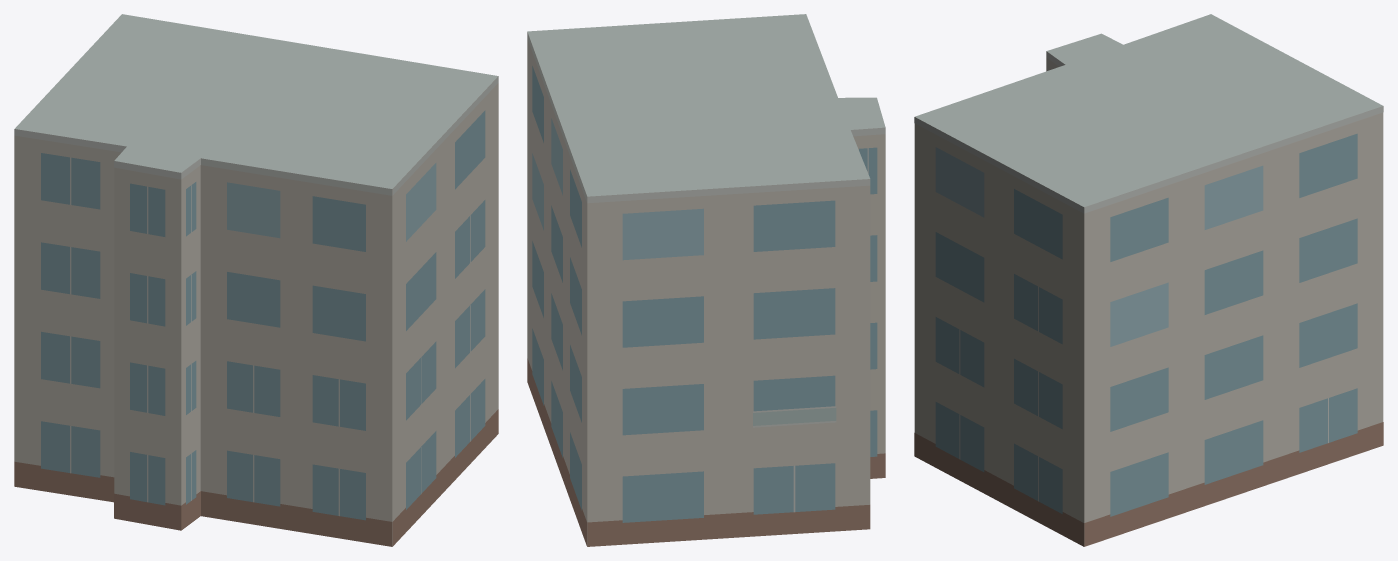
File: survey-upis-32980603.glb
The picture shows the model from 3 angles, left to right: view 1: azimuth 30°, elevation 25°; view 2: azimuth 150°, elevation 25°; view 3: azimuth 270°, elevation 25°; orthographic projection. The views are drawn at different scales.
Visible parts, largest first — view 1: survey-upis-32980603.tmp; view 2: survey-upis-32980603.tmp; view 3: survey-upis-32980603.tmp.
Boxes of the visible parts, x1=… form: survey-upis-32980603.tmp: x1=14, y1=14, x2=498, y2=546; survey-upis-32980603.tmp: x1=527, y1=14, x2=885, y2=546; survey-upis-32980603.tmp: x1=914, y1=14, x2=1383, y2=546.
Size of the model in its own units: 15.84 by 12.97 by 16.24.
